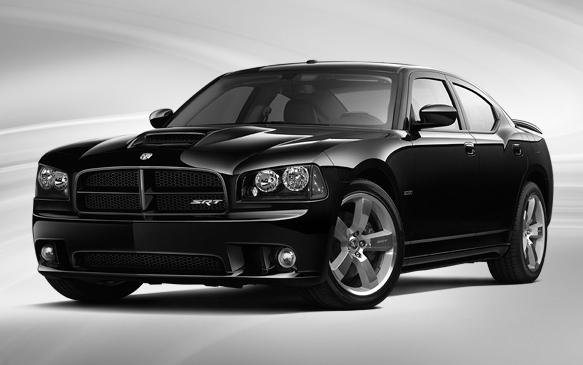car: (33, 64, 556, 309)
